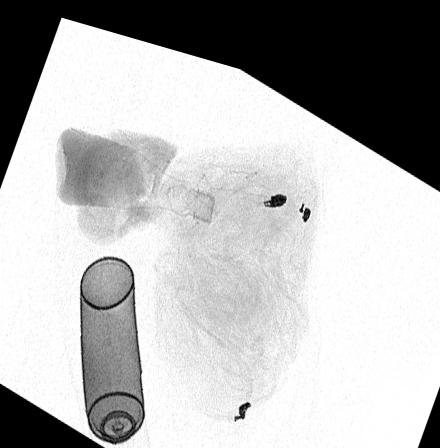Sprayer: (80, 247, 151, 448)
